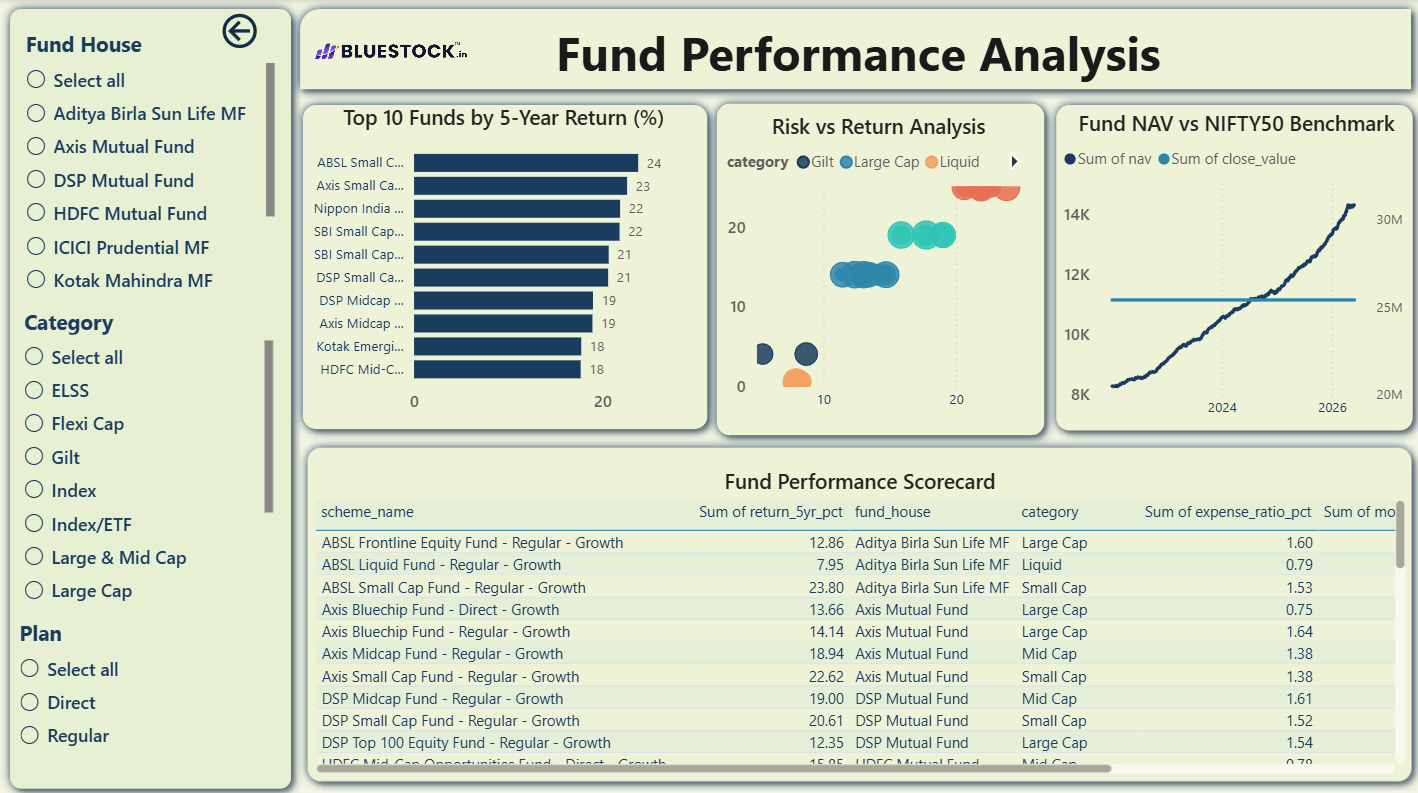

What the dashboard file says about the page in this screenshot:
{"tool":"powerbi","page":{"name":"Fund Performance ","canvas":[1280,720],"ordinal":1},"visuals":[{"type":"shape","box":[0,0,270.9,719.7],"z":0,"group":"g3"},{"type":"shape","box":[636.6,85.2,312.7,316.5],"z":0,"group":"g2"},{"type":"shape","box":[942,86.1,338.7,310.8],"z":0,"group":"g5"},{"type":"group","id":"g1","title":"Group 4","box":[263.3,86.4,381.9,309.6],"z":0},{"type":"shape","box":[263.3,86.4,381.9,309.6],"z":0,"group":"g1"},{"type":"shape","box":[267.8,395.1,1011.3,318.4],"z":0,"group":"g4"},{"type":"shape","box":[261,0,1017.9,90.2],"z":1000},{"type":"clusteredBarChart","title":"Top 10 Funds by 5-Year Return (%)","fields":{"Category":["07_scheme_performance_clean.scheme_name"],"Y":["Sum(07_scheme_performance_clean.return_5yr_pct)"]},"box":[270.2,93.1,365.2,290.3],"z":1000,"group":"g1"},{"type":"lineChart","title":"Fund NAV vs NIFTY50 Benchmark","fields":{"Category":["02_nav_history_clean.date"],"Y":["Sum(02_nav_history_clean.nav)"],"Y2":["Sum(10_nifty50_daily.close_value)"]},"box":[957.7,98.6,311.9,288.1],"z":1000,"group":"g5"},{"type":"scatterChart","title":"Risk vs Return Analysis","fields":{"X":["Sum(07_scheme_performance_clean.return_5yr_pct)1"],"Y":["Sum(07_scheme_performance_clean.std_dev_ann_pct)"],"Size":["Sum(07_scheme_performance_clean.aum_crore)"],"Series":["07_scheme_performance_clean.category"],"Category":["07_scheme_performance_clean.scheme_name"]},"box":[654.6,102.4,273,277.3],"z":1000,"group":"g2"},{"type":"listSlicer","title":"Category","fields":{"Values":["07_scheme_performance_clean.category"]},"box":[16.9,277.2,234.1,280.9],"z":1000,"group":"g3"},{"type":"tableEx","title":"Fund Performance Scorecard","fields":{"Values":["07_scheme_performance_clean.scheme_name","Sum(07_scheme_performance_clean.return_5yr_pct)","07_scheme_performance_clean.fund_house","07_scheme_performance_clean.category","Sum(07_scheme_performance_clean.expense_ratio_pct)","Sum(07_scheme_performance_clean.morningstar_rating)","Sum(07_scheme_performance_clean.aum_crore)","Sum(07_scheme_performance_clean.sharpe_ratio)"]},"box":[282.5,422.3,981.3,280.8],"z":1000,"group":"g4"},{"type":"listSlicer","title":"Fund House","fields":{"Values":["07_scheme_performance_clean.fund_house"]},"box":[18.7,28.1,234.1,249.1],"z":2000,"group":"g3"},{"type":"group","id":"g2","title":"Group 4","box":[636.6,85.2,312.7,316.5],"z":2000},{"type":"listSlicer","title":"Plan","fields":{"Values":["07_scheme_performance_clean.plan"]},"box":[13.1,558.1,232.2,133],"z":3000,"group":"g3"},{"type":"group","id":"g3","title":"Slicer Panel","box":[0,0,295.3,719.7],"z":4000},{"type":"actionButton","box":[194.8,8.2,100.5,41],"z":4000,"group":"g3"},{"type":"group","id":"g4","title":"Group 4","box":[267.8,395.1,1011.3,318.4],"z":5000},{"type":"group","id":"g5","title":"Group 4","box":[942,86.1,339,310.9],"z":6000},{"type":"image","box":[283.2,18.9,137.9,53.7],"z":7000}]}

Visuals, with their boxes in screenshot pixels (x1, y1, x2, y2), scaled from the page's 1280x720 canvas onto the 1418x793 screenshot:
shape: (0,0,300,792)
shape: (705,94,1052,442)
shape: (1044,95,1417,437)
"Group 4" group: (292,95,715,436)
shape: (292,95,715,436)
shape: (297,435,1417,786)
shape: (289,0,1417,99)
"Top 10 Funds by 5-Year Return (%)" clusteredBarChart: (299,103,704,422)
"Fund NAV vs NIFTY50 Benchmark" lineChart: (1061,109,1406,426)
"Risk vs Return Analysis" scatterChart: (725,113,1028,418)
"Category" listSlicer: (19,305,278,615)
"Fund Performance Scorecard" tableEx: (313,465,1400,774)
"Fund House" listSlicer: (21,31,280,305)
"Group 4" group: (705,94,1052,442)
"Plan" listSlicer: (15,615,272,761)
"Slicer Panel" group: (0,0,327,792)
actionButton: (216,9,327,54)
"Group 4" group: (297,435,1417,786)
"Group 4" group: (1044,95,1417,437)
image: (314,21,466,80)
